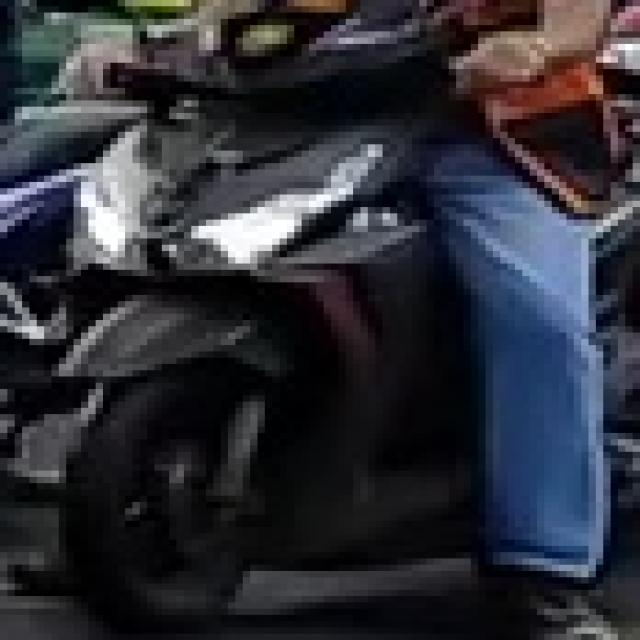door: (0, 0, 633, 634)
tyre: (52, 364, 272, 627)
